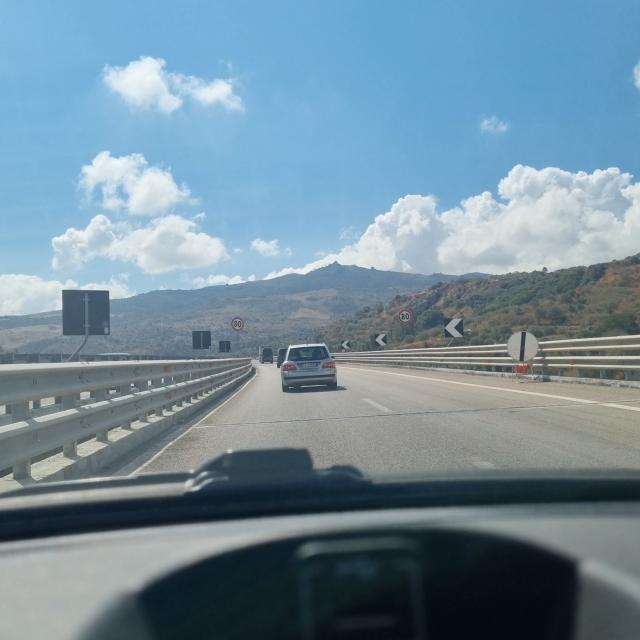forb_speed_over_80: (397, 310, 412, 325), (231, 317, 245, 331)
